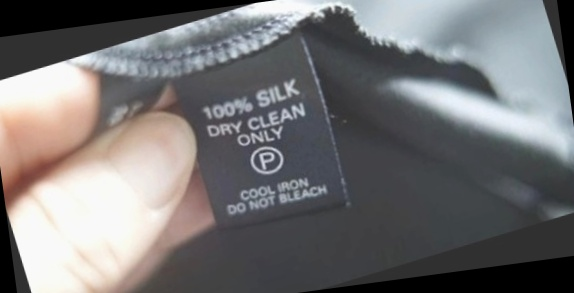dry_clean_any_solvent_except_trichloroethylene: (246, 139, 289, 179)
